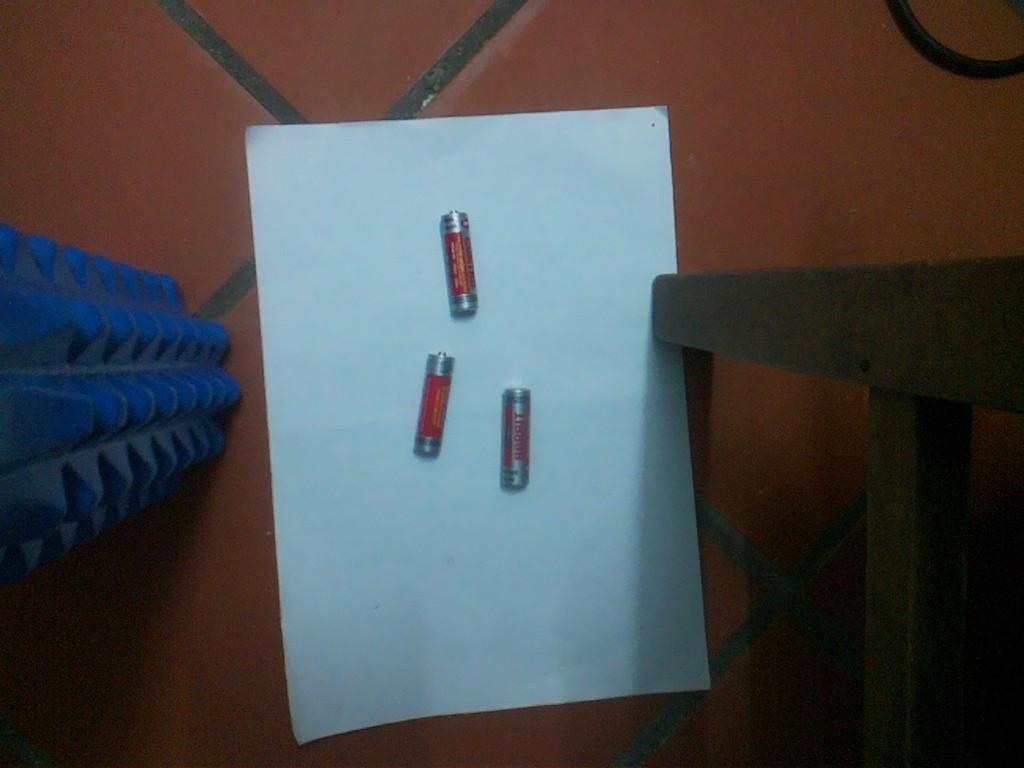AA: (413, 351, 456, 457), (439, 210, 480, 319), (499, 388, 532, 490)
